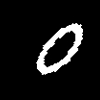chain: (37, 23, 82, 74)
